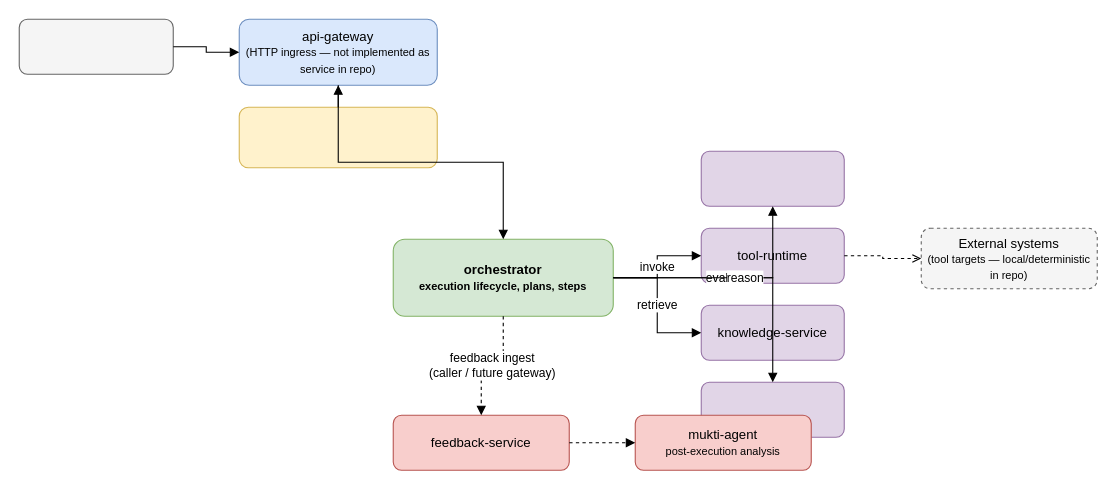
Some shapes in this 1117 by 490 pixel diagram are drawn without their labels. The shapes that lost their labels are listed below. From the top down, each one's centre as x and y in pixels, then its label:
At (95,46): "Clients & operators".
At (337,137): "operator-console (placeholder in repo)".
At (772,178): "policy-engine".
At (772,409): "model-runtime".
